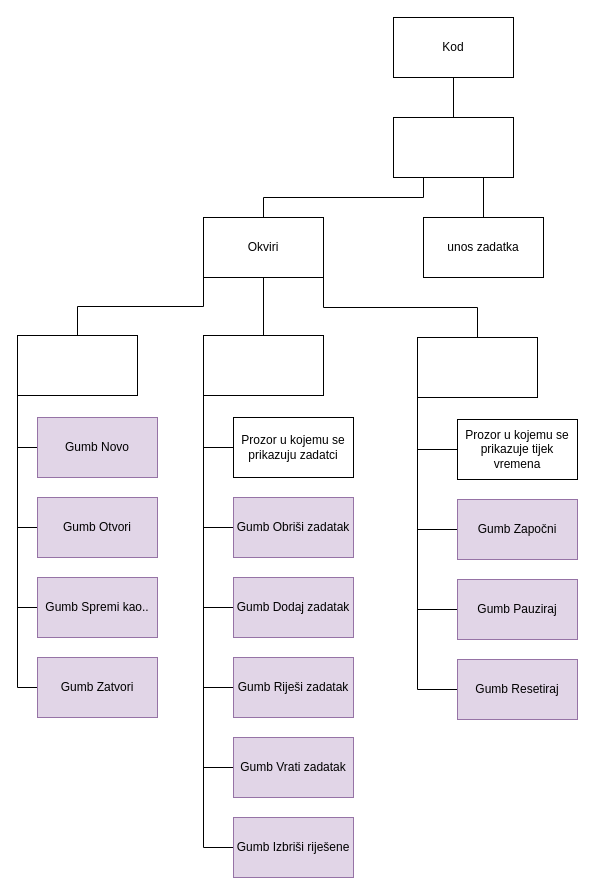
The diagram is 595 pixels wide and 895 high, and some of its shapes have lost their labels. The shapes that lost their labels are listed below. From the top down, each one's box as (x1, y1, x2, y2) in pixels, then its label:
(392, 116, 514, 178): Glavni prozor
(16, 334, 138, 396): okvir za Meni
(202, 334, 324, 396): okvir za listu zadataka
(416, 336, 538, 398): okvir za timer
